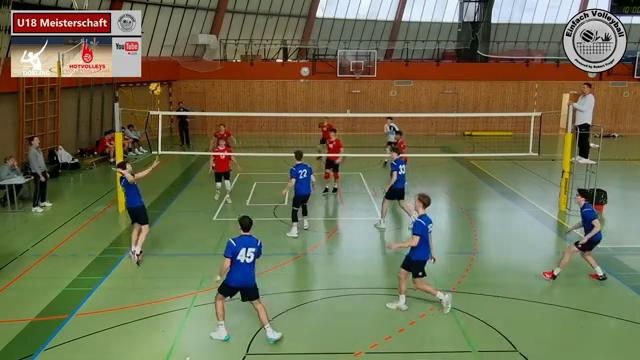Attack: (108, 158, 166, 266)
Player: (210, 215, 281, 342), (386, 193, 451, 313), (543, 189, 606, 280), (375, 147, 414, 229), (282, 150, 315, 237), (211, 138, 239, 203), (323, 128, 342, 194), (384, 117, 399, 153), (317, 118, 332, 152), (214, 123, 236, 146), (396, 130, 407, 163)
ball: (148, 81, 160, 97)
